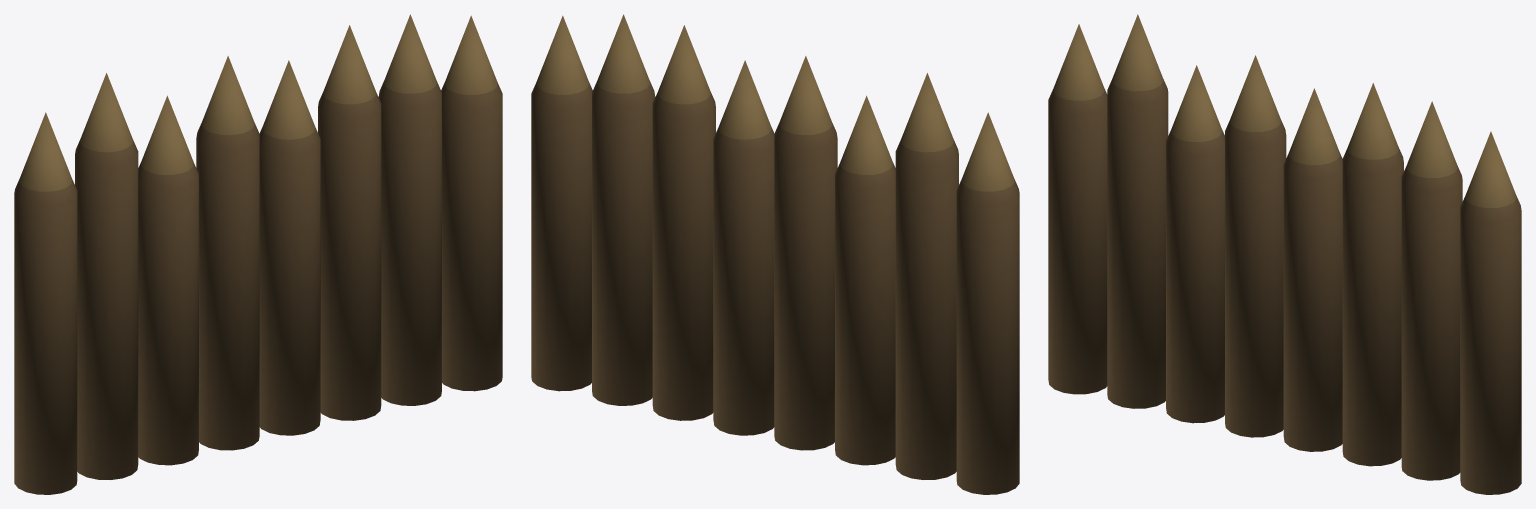
Rendered from Fence_H2.001.glb.
3 views of the same model, side by side, from view 1: azimuth 30°, elevation 25°; view 2: azimuth 150°, elevation 25°; view 3: azimuth 330°, elevation 25° (orthographic). The views are drawn at different scales.
Parts seen in each view (by area): view 1: Fence_H2.003; view 2: Fence_H2.003; view 3: Fence_H2.003.
Part boxes in pixels (box(x1,y1,x2,y2)): Fence_H2.003: box(14, 14, 502, 494); Fence_H2.003: box(531, 14, 1019, 494); Fence_H2.003: box(1048, 14, 1521, 494).
Size of the model in its own units: 2.25 by 1.77 by 0.259.
1 material, 1 textured.
